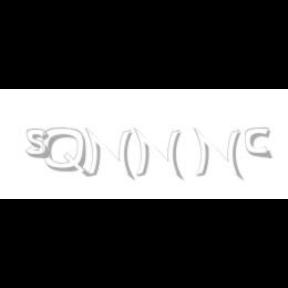N: (84, 128, 134, 180), (192, 128, 242, 180), (132, 128, 181, 180)
Q: (42, 128, 88, 178)
c: (244, 128, 274, 160)
s: (26, 128, 54, 160)
